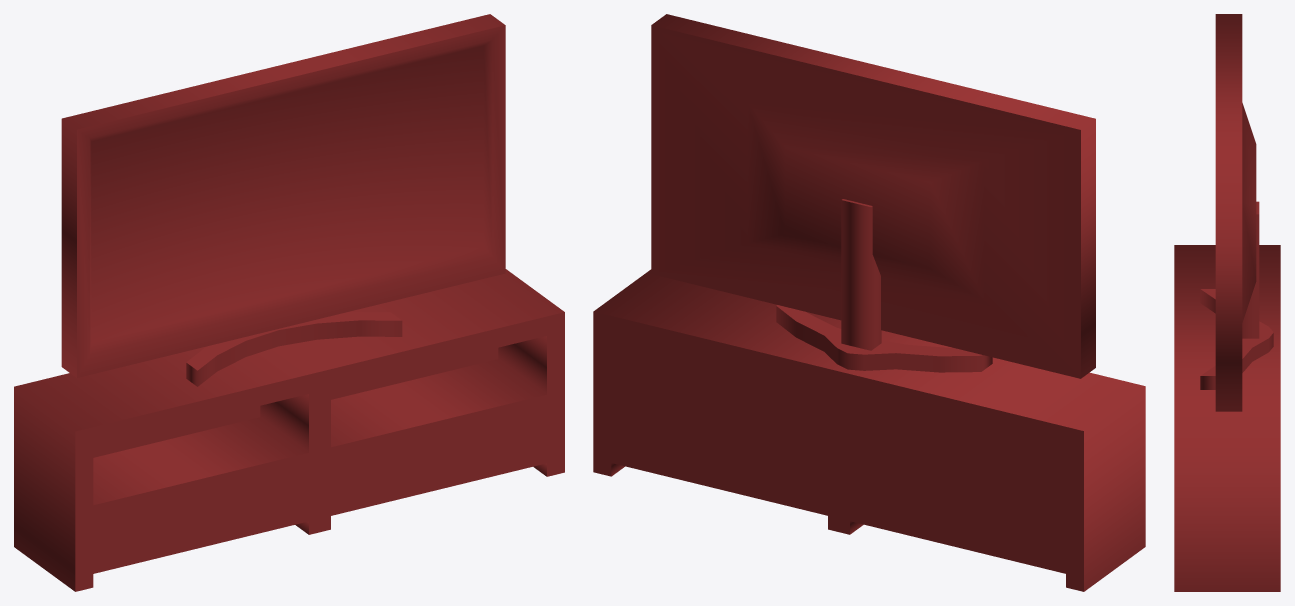
File: prop01_tv_01.fbx
3 views of the same model, side by side, from view 1: azimuth 30°, elevation 25°; view 2: azimuth 150°, elevation 25°; view 3: azimuth 270°, elevation 25° (orthographic). The views are drawn at different scales.
Visible parts, largest first — view 1: Object036, Object037, Object029; view 2: Object029, Object036; view 3: Object036, Object029.
Part boxes in pixels (x1,y1,x2,y2): Object036: (14,269,564,591); Object037: (91,46,483,342); Object029: (61,14,505,386); Object029: (651,14,1095,378); Object036: (593,269,1145,591); Object036: (1174,245,1280,591); Object029: (1200,14,1273,411).
Size of the model in its own units: 89.61 by 76.72 by 19.45.
